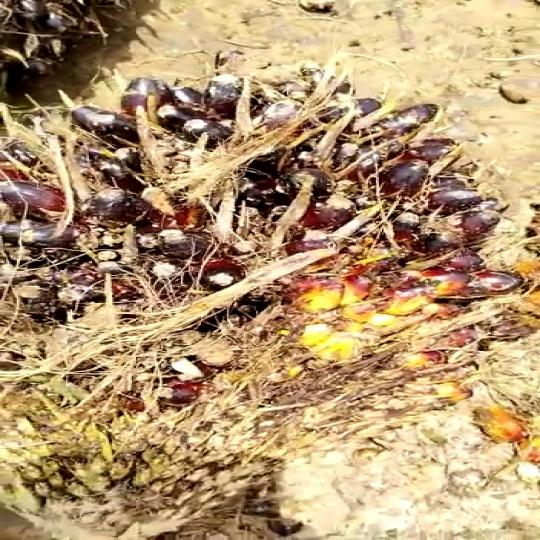mentah: (7, 60, 512, 537)
